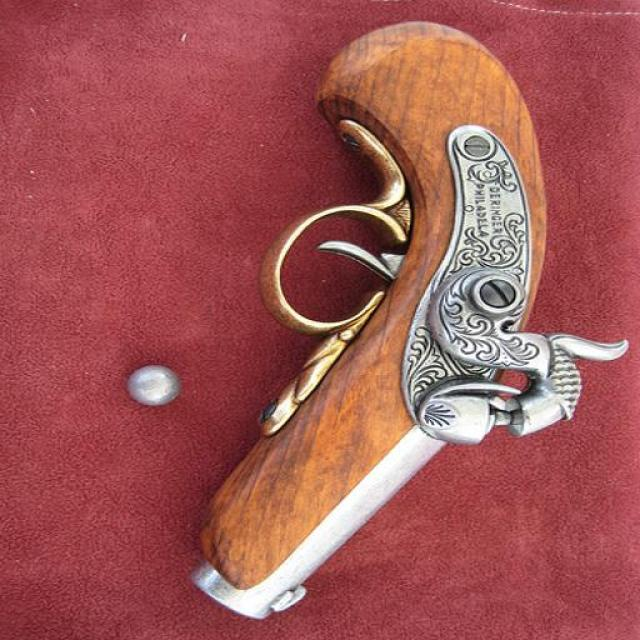pistol: (184, 20, 604, 615)
